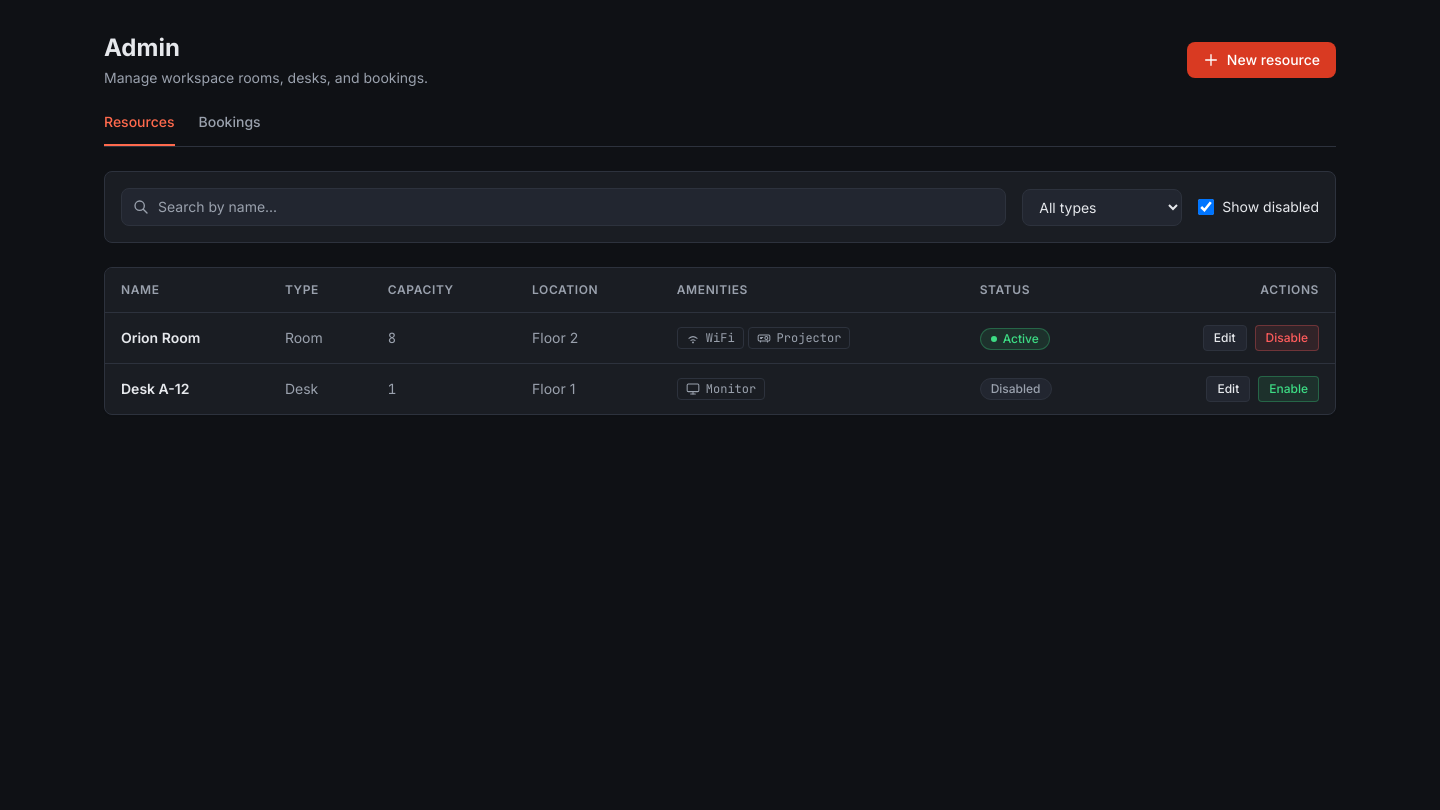
Test: Admin Page › handles create resource flow and shows admin notice
This screenshot has width=1440, height=810.
Click the button "New resource": {"x": 1261, "y": 60} [1187,42,1336,78]
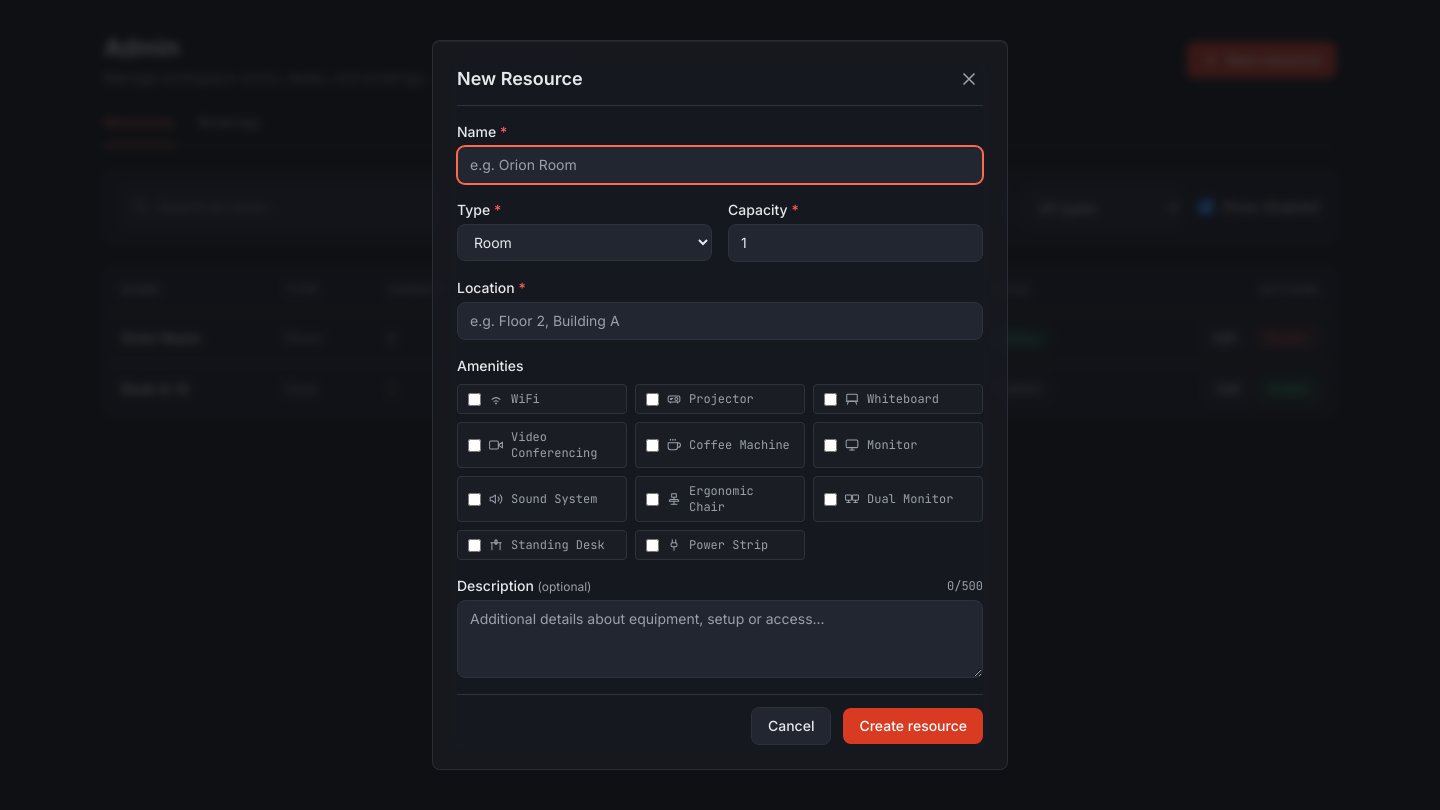
Now the heading "New Resource" is shown, box [457,65,583,93]
In the field labelled "Name *": {"x": 720, "y": 165} [457,146,983,184], type "Nova Room"
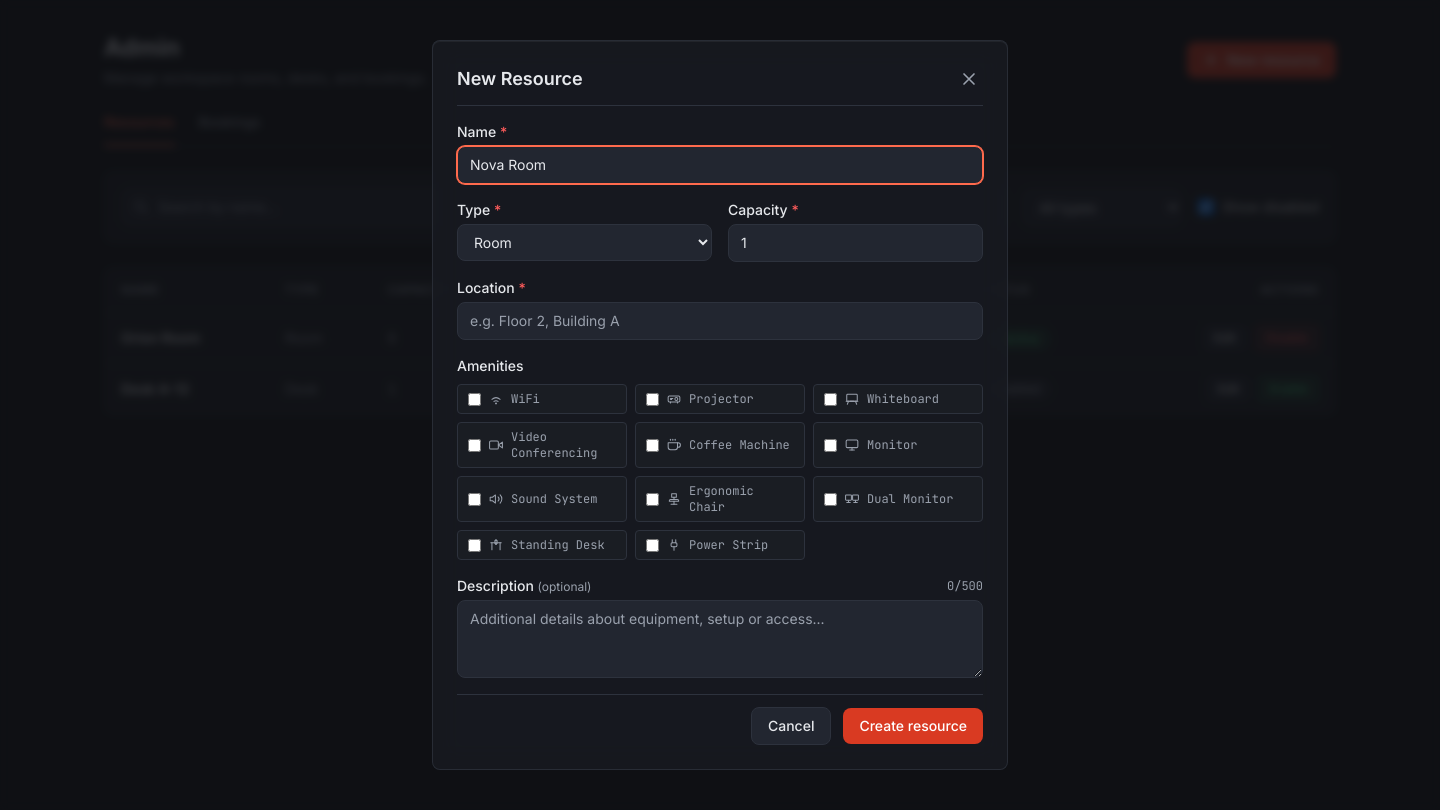
In the field labelled "Location *": {"x": 720, "y": 321} [457,302,983,340], type "Floor 3"
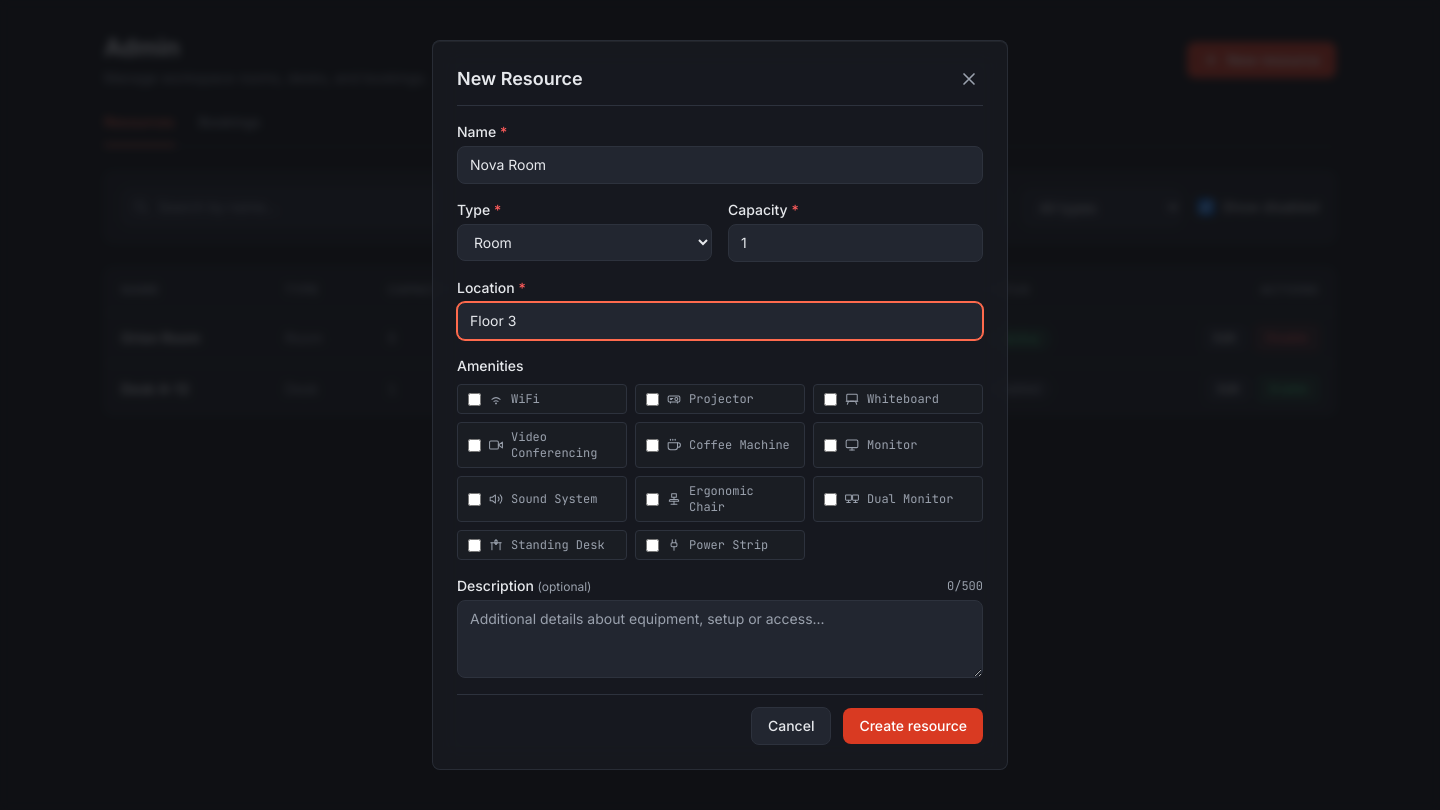
Click the button "Create resource": {"x": 913, "y": 726} [844,708,983,744]
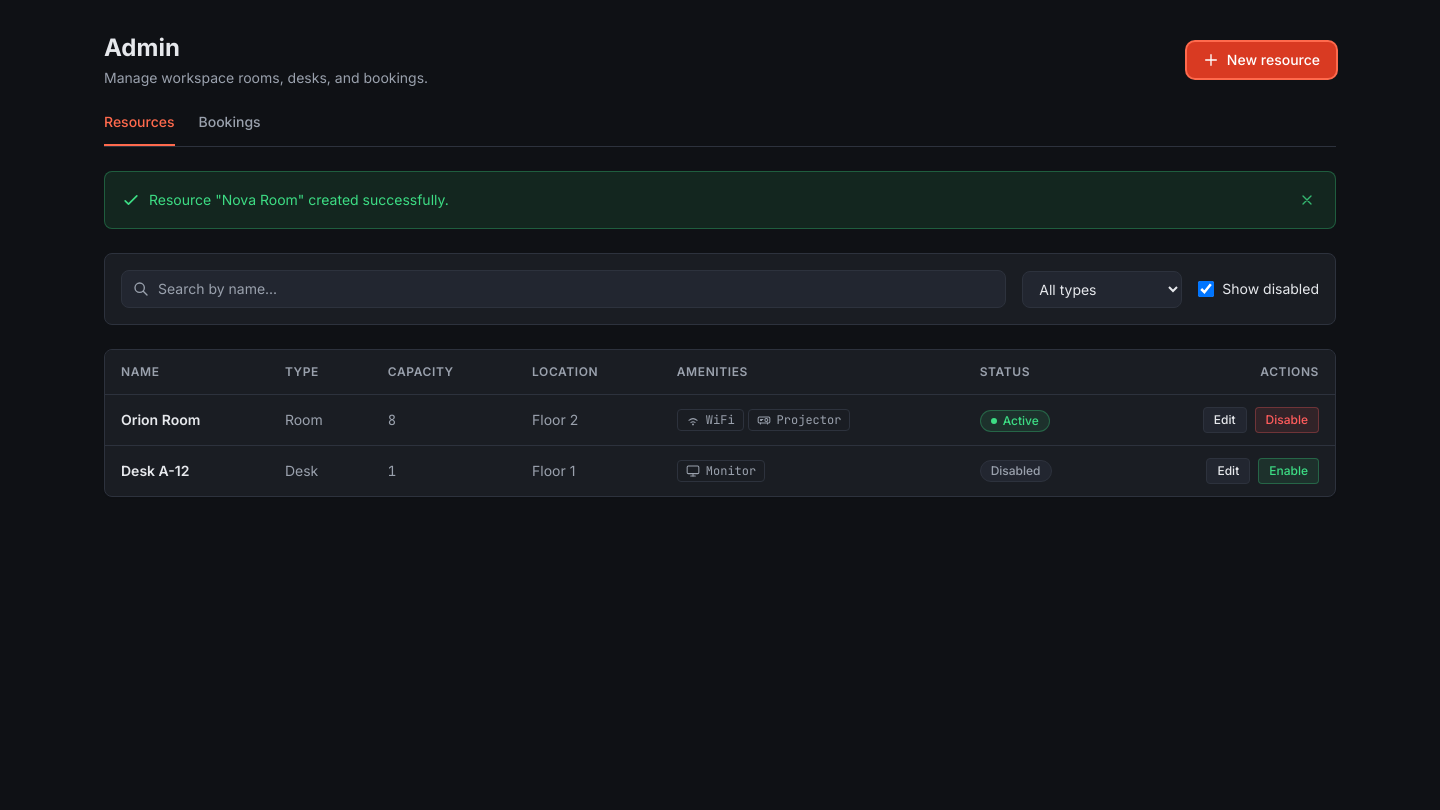
Now the message with test id "admin-notice" reads "Resource \"Nova Room\" created successfully.", box [149,191,449,208]
Click the button named "Dismiss notice": {"x": 1307, "y": 200} [1295,188,1319,212]
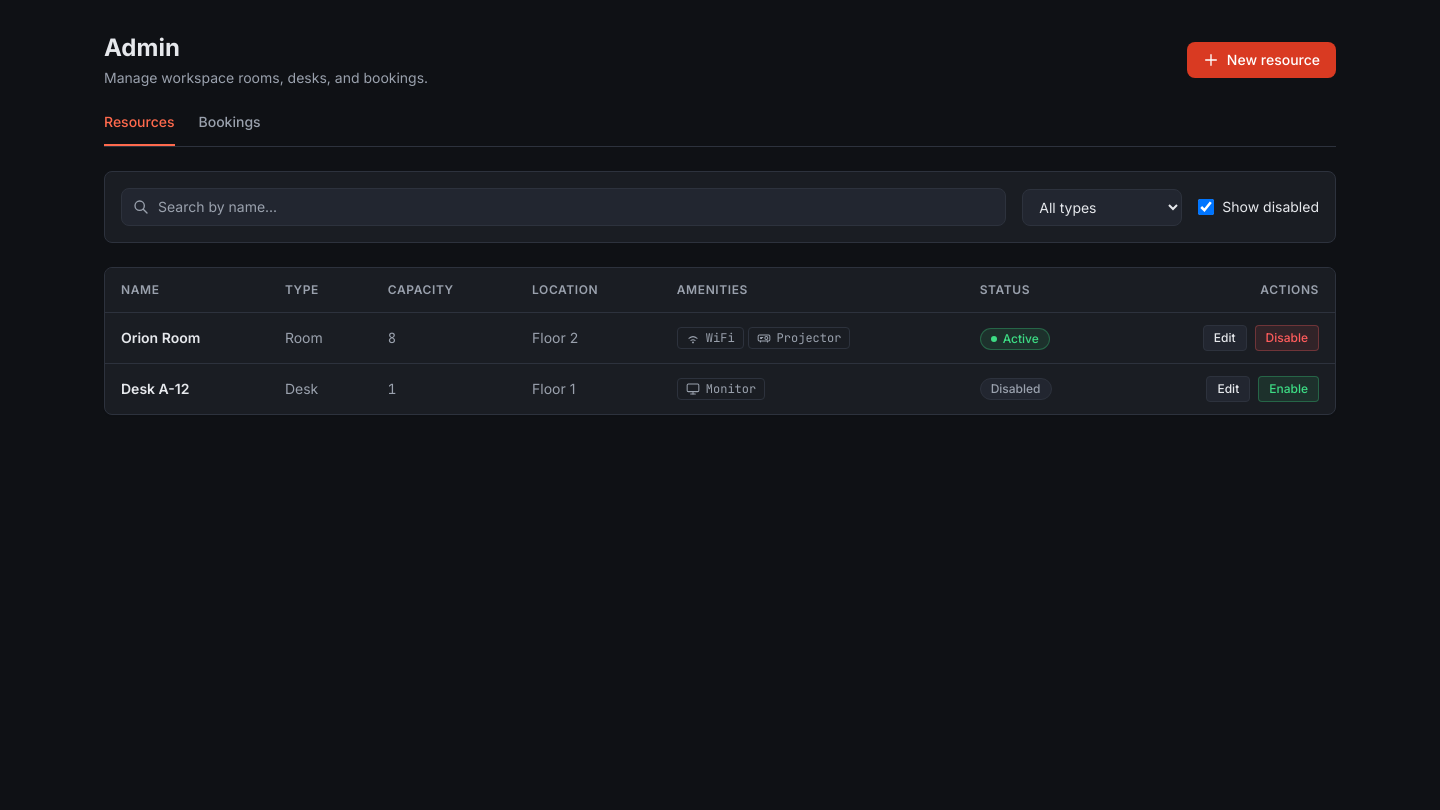
Now the message with test id "admin-notice" is gone
